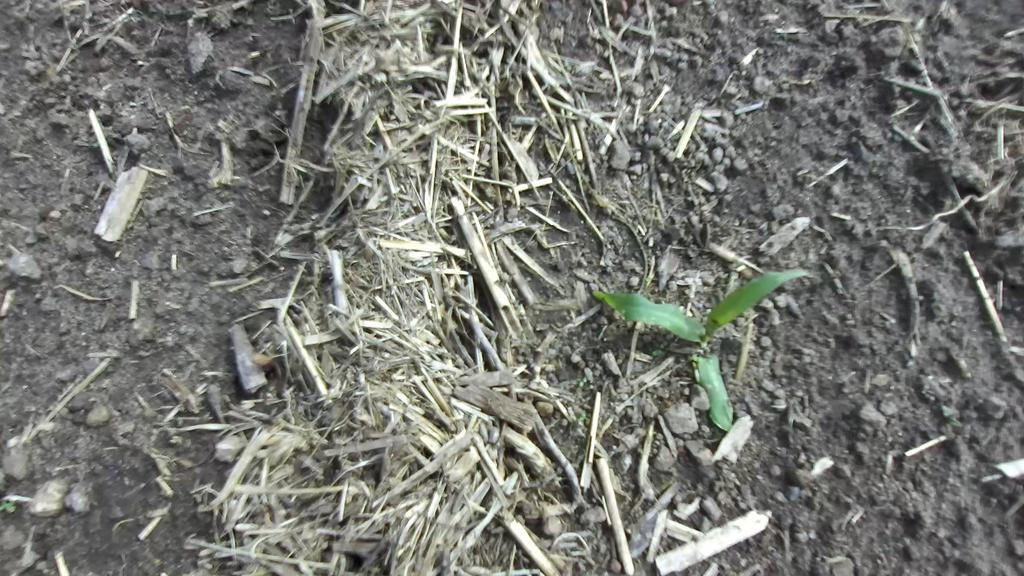BroWeed: (940, 400, 964, 431), (0, 500, 17, 513), (576, 376, 589, 388), (650, 348, 664, 358), (578, 409, 587, 422), (691, 361, 698, 369)
Maize: (565, 182, 818, 433)
